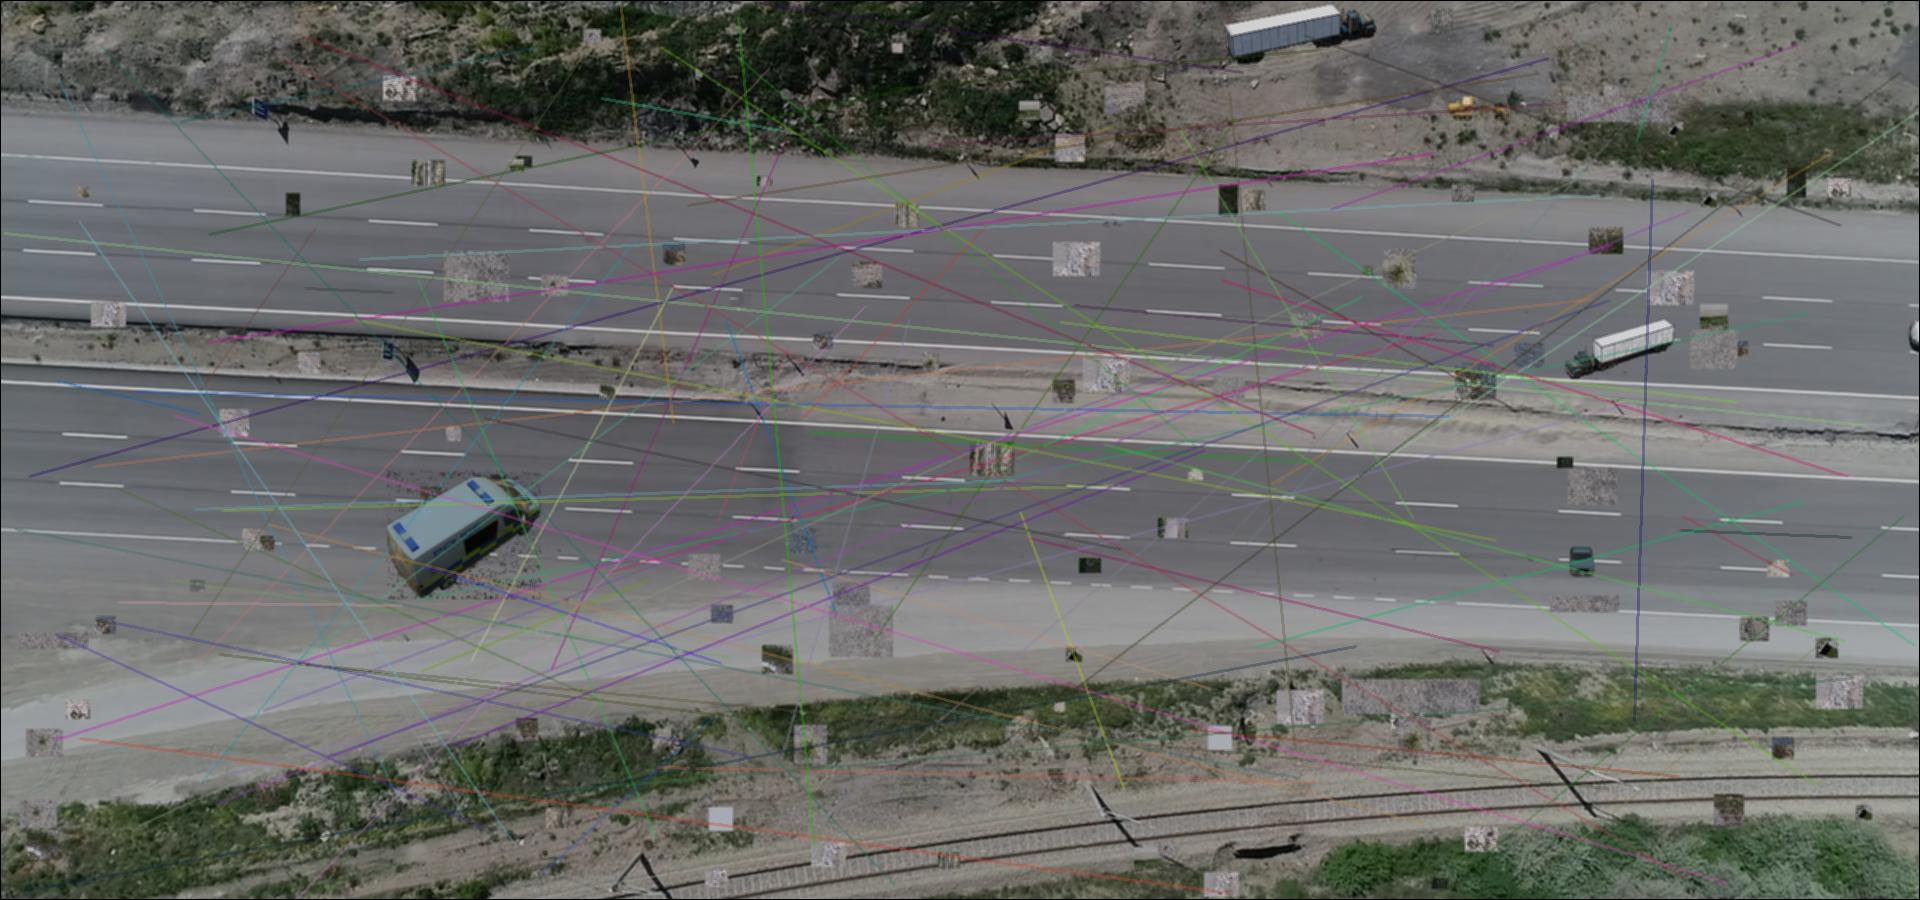arac: (387, 471, 541, 599), (1222, 2, 1379, 64), (1562, 317, 1680, 380), (1446, 96, 1512, 122), (1567, 546, 1596, 577)
